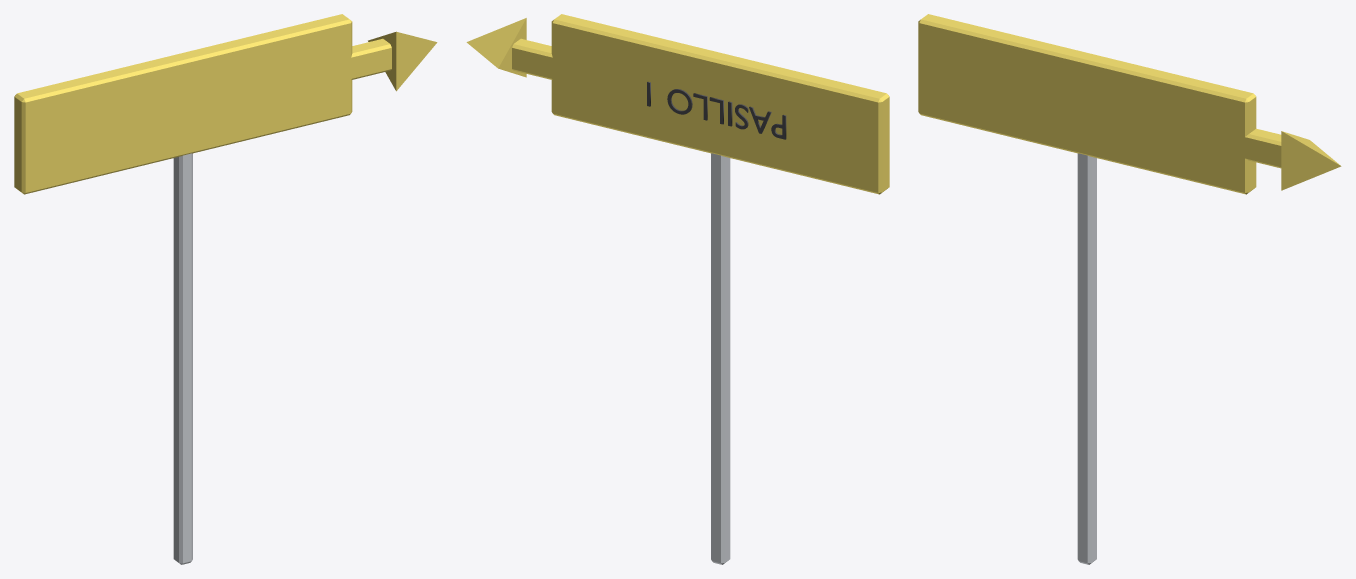
Rendered from Senal_Pasillo.fbx.
3 views of the same model, side by side, from view 1: azimuth 30°, elevation 25°; view 2: azimuth 150°, elevation 25°; view 3: azimuth 330°, elevation 25° (orthographic).
Parts seen in each view (by area): view 1: Senal_Pasillo | Panel senal, Senal_Pasillo | Poste senal, Senal_Pasillo | Punta flecha, Senal_Pasillo | Flecha; view 2: Senal_Pasillo | Panel senal, Senal_Pasillo | Poste senal, Senal_Pasillo | Punta flecha, Senal_Pasillo | Texto senal, Senal_Pasillo | Flecha; view 3: Senal_Pasillo | Panel senal, Senal_Pasillo | Poste senal, Senal_Pasillo | Punta flecha, Senal_Pasillo | Flecha.
Part boxes in pixels (x1=…): Senal_Pasillo | Panel senal: x1=14, y1=14, x2=352, y2=194; Senal_Pasillo | Poste senal: x1=173, y1=153, x2=192, y2=564; Senal_Pasillo | Punta flecha: x1=368, y1=31, x2=437, y2=91; Senal_Pasillo | Flecha: x1=346, y1=38, x2=391, y2=79; Senal_Pasillo | Panel senal: x1=551, y1=14, x2=889, y2=194; Senal_Pasillo | Poste senal: x1=711, y1=153, x2=730, y2=564; Senal_Pasillo | Punta flecha: x1=466, y1=18, x2=526, y2=77; Senal_Pasillo | Texto senal: x1=647, y1=82, x2=786, y2=139; Senal_Pasillo | Flecha: x1=512, y1=38, x2=557, y2=79; Senal_Pasillo | Panel senal: x1=918, y1=14, x2=1256, y2=194; Senal_Pasillo | Poste senal: x1=1077, y1=153, x2=1096, y2=564; Senal_Pasillo | Punta flecha: x1=1281, y1=131, x2=1341, y2=190; Senal_Pasillo | Flecha: x1=1240, y1=128, x2=1281, y2=168.
Size of the model in its own units: 1.65 by 1.9 by 0.195.
